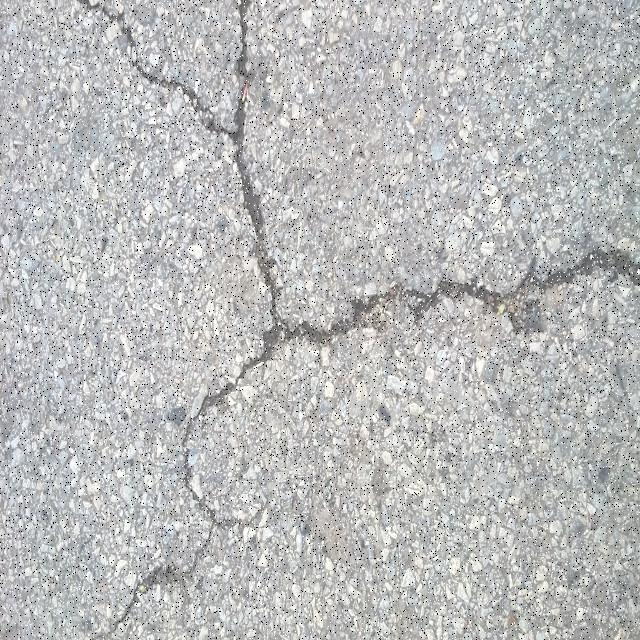Crack: (68, 0, 640, 640)
